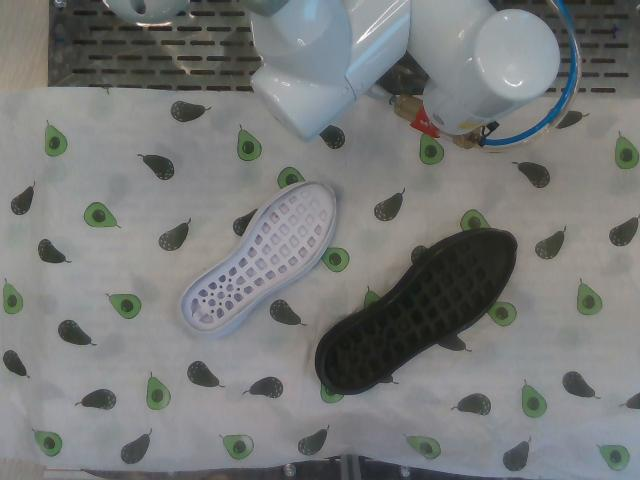shoes: (324, 231, 515, 390), (181, 181, 336, 331)
